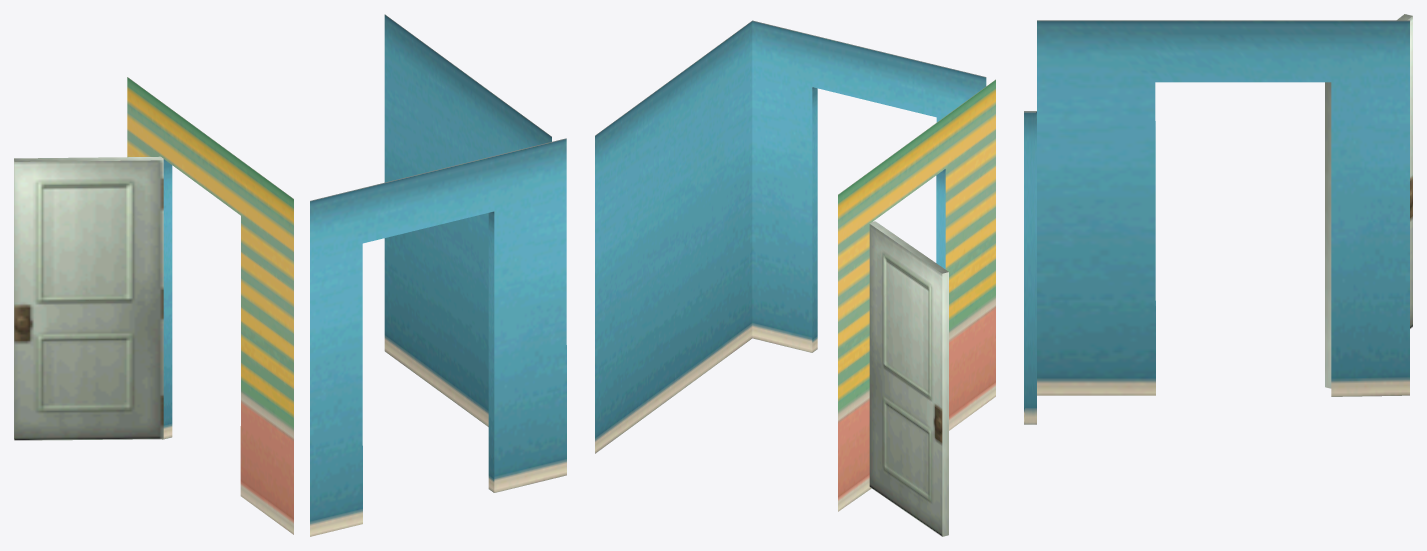
Rendered from HALLWAY2.glb.
The picture shows the model from 3 angles, left to right: view 1: azimuth 30°, elevation 25°; view 2: azimuth 150°, elevation 25°; view 3: azimuth 270°, elevation 25°; orthographic projection. The views are drawn at different scales.
Visible parts, largest first — view 1: HALLWAY2; view 2: HALLWAY2; view 3: HALLWAY2.
Boxes of the visible parts, <box> form: HALLWAY2: <box>14,14,566,536</box>; HALLWAY2: <box>595,20,995,536</box>; HALLWAY2: <box>1024,14,1412,424</box>.
Bounding box in the file's own units: 742 × 625 × 585.
3 materials, 3 textured.
